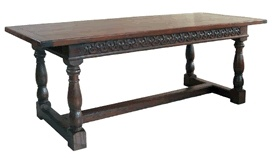obstacle: (5, 13, 266, 149)
